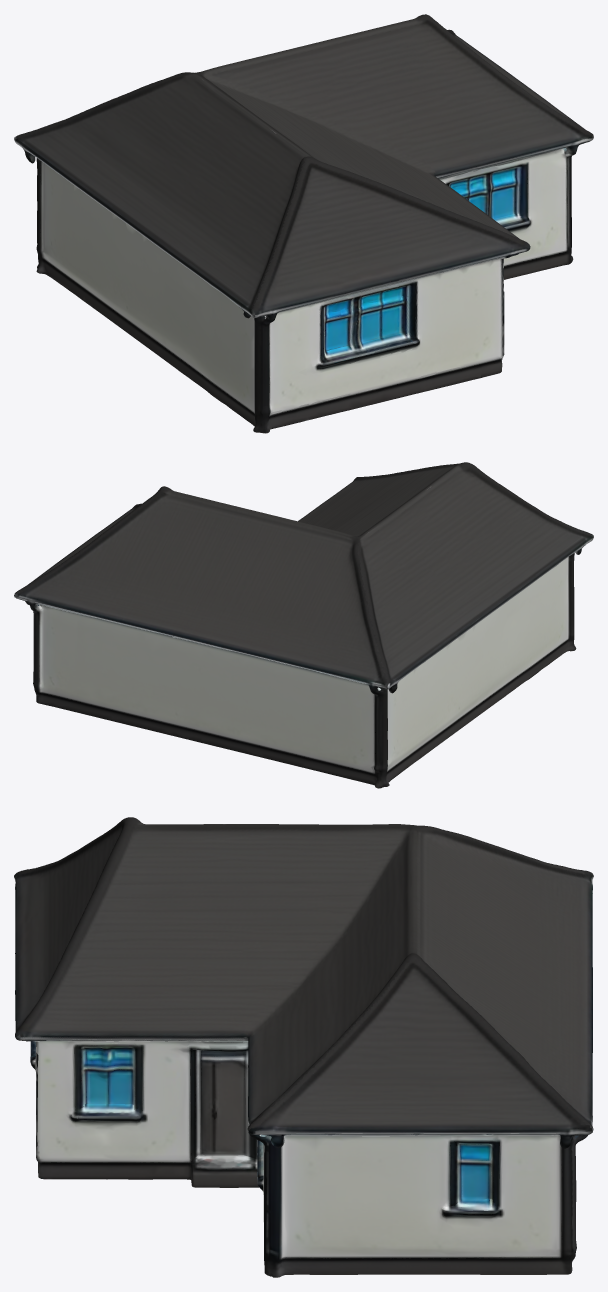
File: house-courtyard-house.glb
The picture shows the model from 3 angles, top to bottom: view 1: azimuth 30°, elevation 25°; view 2: azimuth 150°, elevation 25°; view 3: azimuth 270°, elevation 25°; orthographic projection. The views are drawn at different scales.
Visible parts, largest first — view 1: tmps86uceys.ply; view 2: tmps86uceys.ply; view 3: tmps86uceys.ply.
Part boxes in pixels (box(x1,y1,x2,y2)): tmps86uceys.ply: box(14, 14, 593, 433); tmps86uceys.ply: box(14, 462, 593, 788); tmps86uceys.ply: box(14, 817, 593, 1277).
Bounding box in the file's own units: 1.96 × 0.964 × 1.87.
Materials: 1 (1 with a texture image).
